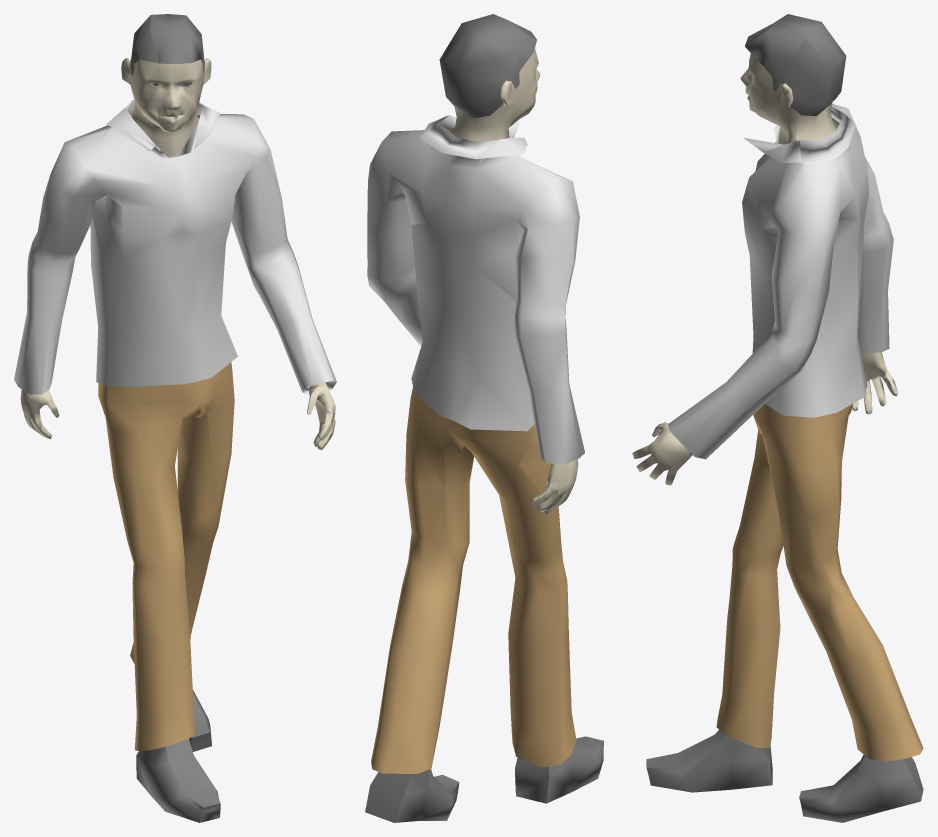
The model's file is person.dae.
3 views of the same model, side by side, from view 1: azimuth 30°, elevation 25°; view 2: azimuth 150°, elevation 25°; view 3: azimuth 270°, elevation 25° (orthographic). The views are drawn at different scales.
Parts seen in each view (by area): view 1: material_Shape_Coord_Material__5__Surf, material_Shape_Coord_Material__1__Surf, material_Shape_Coord_Material__6__Surf, material_Shape_Coord_Material__2__Surf, material_Shape_Coord_Material__4__Surf; view 2: material_Shape_Coord_Material__5__Surf, material_Shape_Coord_Material__1__Surf, material_Shape_Coord_Material__2__Surf, material_Shape_Coord_Material__4__Surf, material_Shape_Coord_Material__6__Surf; view 3: material_Shape_Coord_Material__5__Surf, material_Shape_Coord_Material__1__Surf, material_Shape_Coord_Material__2__Surf, material_Shape_Coord_Material__6__Surf, material_Shape_Coord_Material__4__Surf.
Boxes of the visible parts, <box> form: material_Shape_Coord_Material__5__Surf: <box>14,100,336,394</box>; material_Shape_Coord_Material__1__Surf: <box>98,362,234,750</box>; material_Shape_Coord_Material__6__Surf: <box>20,58,335,449</box>; material_Shape_Coord_Material__2__Surf: <box>136,83,220,822</box>; material_Shape_Coord_Material__4__Surf: <box>130,14,204,86</box>; material_Shape_Coord_Material__5__Surf: <box>367,115,584,464</box>; material_Shape_Coord_Material__1__Surf: <box>371,387,576,773</box>; material_Shape_Coord_Material__2__Surf: <box>365,736,603,822</box>; material_Shape_Coord_Material__4__Surf: <box>439,14,536,117</box>; material_Shape_Coord_Material__6__Surf: <box>448,49,578,514</box>; material_Shape_Coord_Material__5__Surf: <box>668,104,893,459</box>; material_Shape_Coord_Material__1__Surf: <box>716,403,923,761</box>; material_Shape_Coord_Material__2__Surf: <box>646,729,923,822</box>; material_Shape_Coord_Material__6__Surf: <box>632,53,898,485</box>; material_Shape_Coord_Material__4__Surf: <box>745,14,846,115</box>.
Size of the model in its own units: 6.28 by 6.36 by 18.61.
